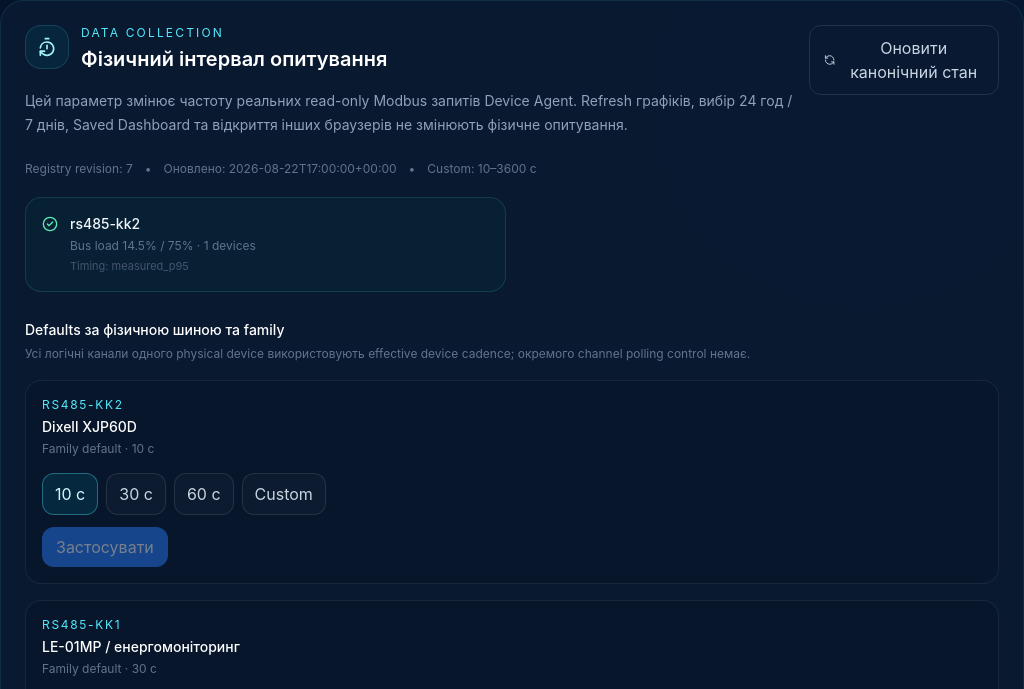
AcquisitionCadencePanel › rejects a custom value below the server product floor before mutation
Expected: the text "Dixell XJP60D" is shown, x1=42 y1=418 x2=137 y2=434
Click the 1st button "Custom" at (284, 494), box x1=242 y1=472 x2=326 y2=514
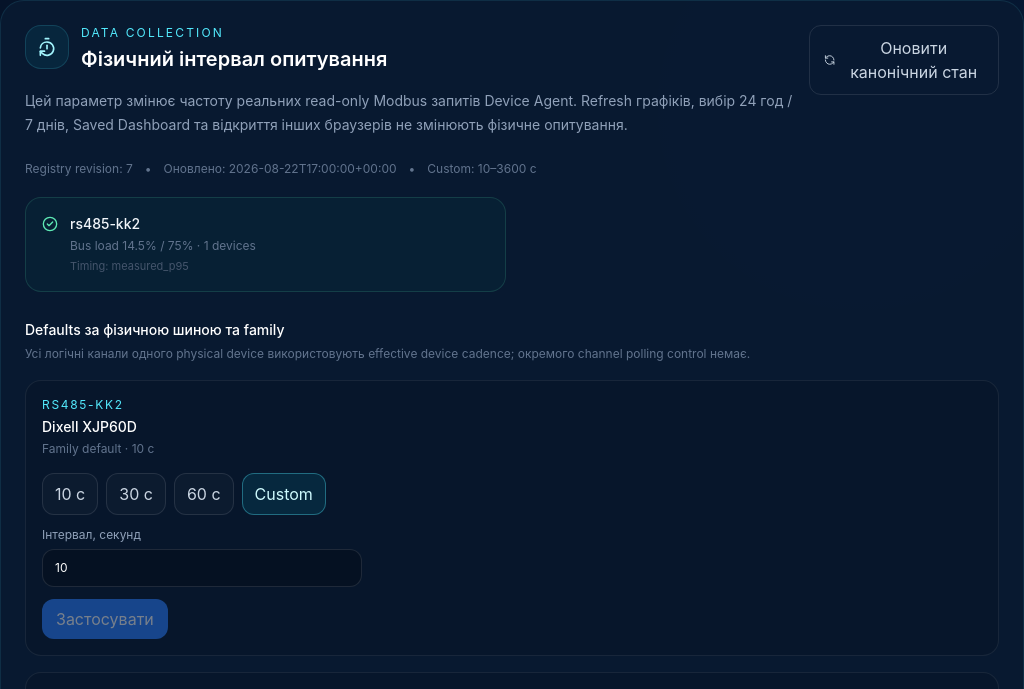
Replace the text in the number field labelled "Інтервал, секунд" with "9" at (202, 568), box x1=42 y1=548 x2=362 y2=586
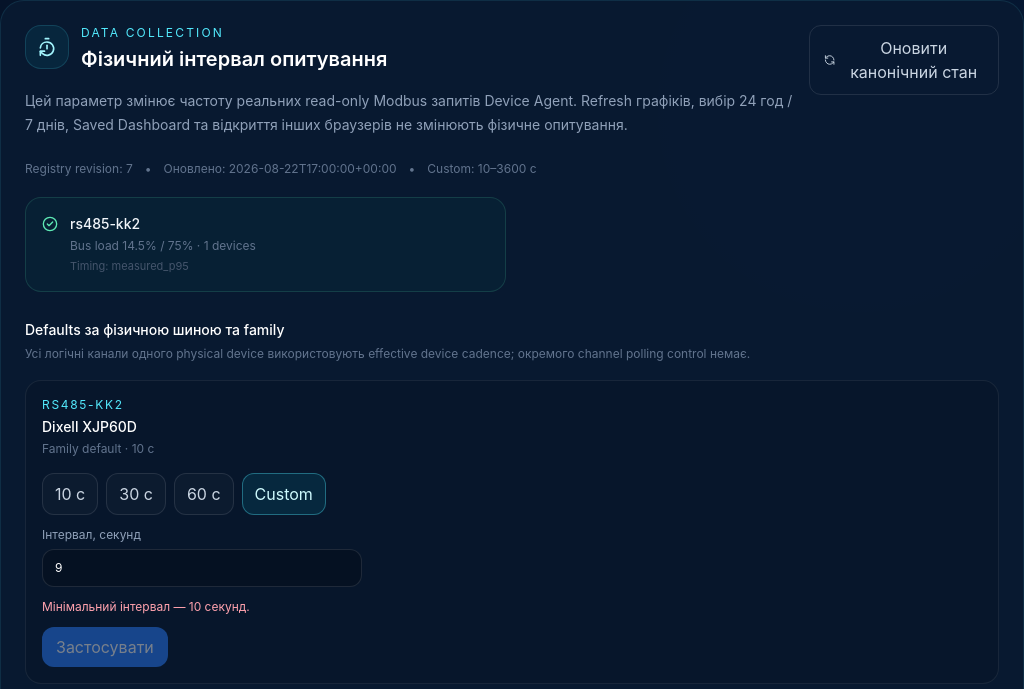
Expected: the button "Застосувати" is disabled, x1=42 y1=626 x2=168 y2=666
Expected: the message reads "Мінімальний інтервал — 10 секунд.", x1=42 y1=598 x2=250 y2=614
